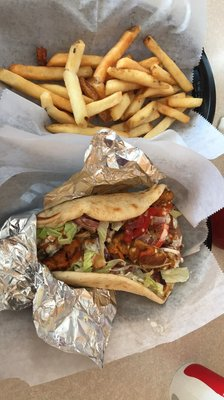soup: (35, 128, 190, 303)
